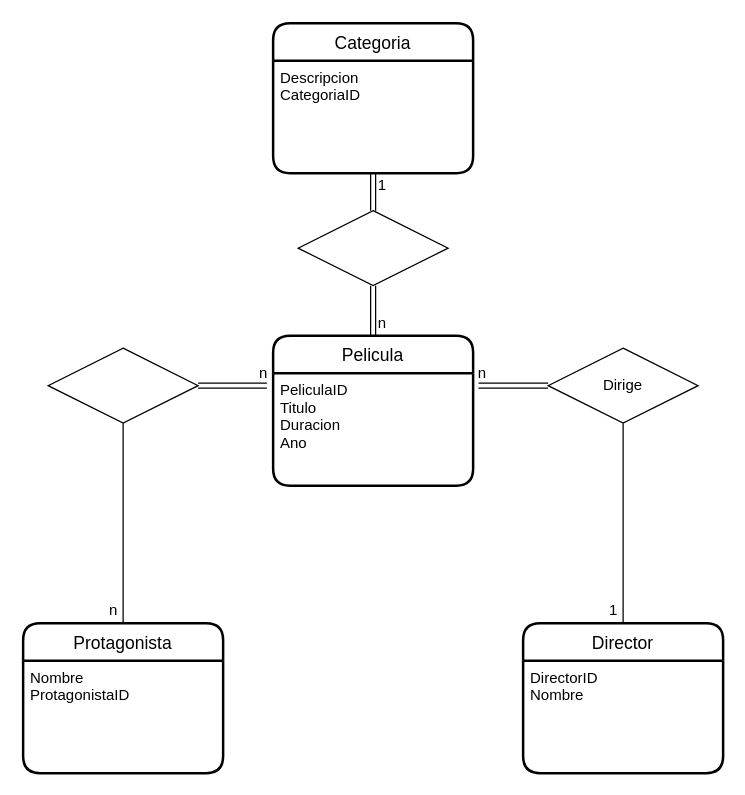
Image size: 745x795. Some labels were removed from this diagram. The shapes that lost their labels are listed below. From the top down, each one's box as (x1, y1, x2, y2) in pixels, then its label:
(297, 209, 448, 286): Movie-Cat
(47, 347, 198, 423): Actua
